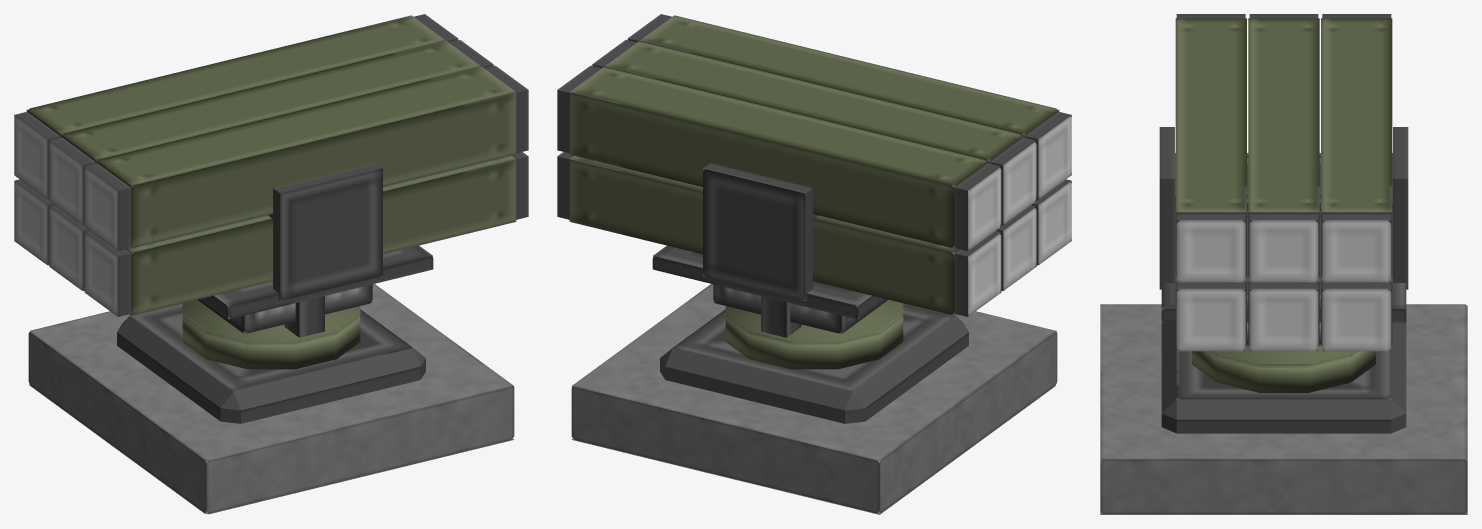
File: sam2.obj
3 views of the same model, side by side, from view 1: azimuth 30°, elevation 25°; view 2: azimuth 150°, elevation 25°; view 3: azimuth 270°, elevation 25° (orthographic). The views are drawn at different scales.
Parts seen in each view (by area): view 1: Base, Tube1, Tube4, TubeHolder, Tube2, Tube3, Rotating part, Cap1Back, Cap6Back, Cap3Back, Cap2Back, Cap4Back (+5 smaller); view 2: Base, Tube3, Tube6, TubeHolder, Tube2, Tube1, Rotating part, Cap3Back, Cap4Back, Cap2Back, Cap1Back, Cap6Back (+5 smaller); view 3: Base, Tube1, Tube2, Tube3, TubeHolder, Rotating part, Cap6Front, Cap4Front, Cap5Front, Cap1Front, Cap3Front, Cap2Front.
Boxes of the visible parts, x1,y1,x2,y2 form: Base: (28, 284, 514, 514); Tube1: (97, 67, 516, 247); Tube4: (125, 156, 516, 315); TubeHolder: (200, 163, 433, 319); Tube2: (61, 41, 481, 163); Tube3: (26, 15, 445, 137); Rotating part: (182, 300, 360, 369); Cap1Back: (84, 163, 130, 250); Cap6Back: (84, 231, 130, 316); Cap3Back: (14, 112, 60, 199); Cap2Back: (49, 137, 95, 225); Cap4Back: (14, 179, 54, 265); Base: (571, 284, 1057, 514); Tube3: (569, 67, 988, 247); Tube6: (569, 156, 960, 315); TubeHolder: (652, 163, 885, 319); Tube2: (604, 41, 1024, 163); Tube1: (640, 15, 1059, 137); Rotating part: (725, 300, 903, 369); Cap3Back: (955, 163, 1001, 250); Cap4Back: (955, 231, 1001, 316); Cap2Back: (990, 137, 1036, 225); Cap1Back: (1025, 112, 1071, 199); Cap6Back: (1031, 179, 1071, 265); Base: (1100, 304, 1467, 514); Tube1: (1175, 18, 1246, 276); Tube2: (1248, 18, 1319, 276); Tube3: (1321, 18, 1392, 276); TubeHolder: (1159, 127, 1408, 322); Rotating part: (1192, 344, 1375, 392); Cap6Front: (1176, 282, 1245, 351); Cap4Front: (1322, 282, 1391, 351); Cap5Front: (1249, 282, 1318, 351); Cap1Front: (1176, 214, 1245, 282); Cap3Front: (1322, 214, 1391, 282); Cap2Front: (1249, 214, 1318, 282).
Size of the model in its own units: 4 by 2.9 by 3.
2 materials, 1 textured.
